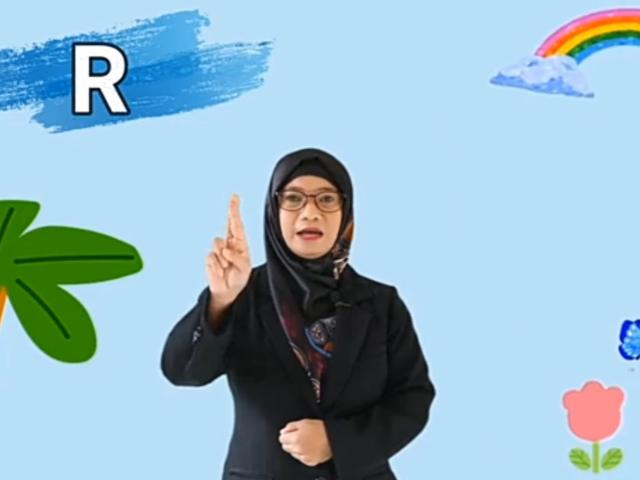R: (203, 192, 253, 294)
